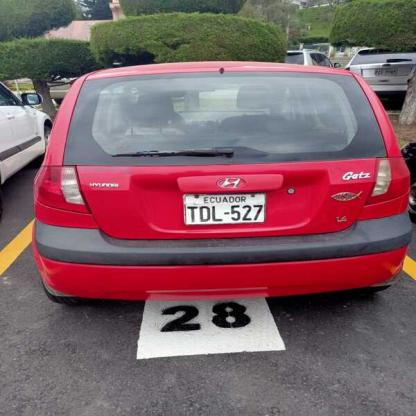Placa: (181, 190, 266, 223)
